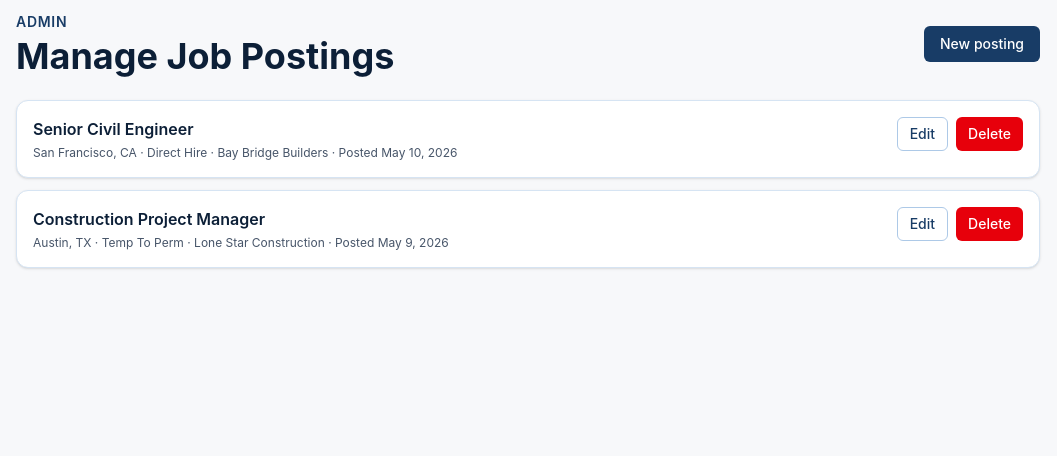
Scenario: <AdminJobsPage /> — delete › surfaces a DELETE error in the page banner
Check: the list named "job postings" is shown, box [16,100,1040,268]
Click the button "Delete" in the row of "May 10, 2026" at coordinates (990, 134), box [956,117,1023,151]
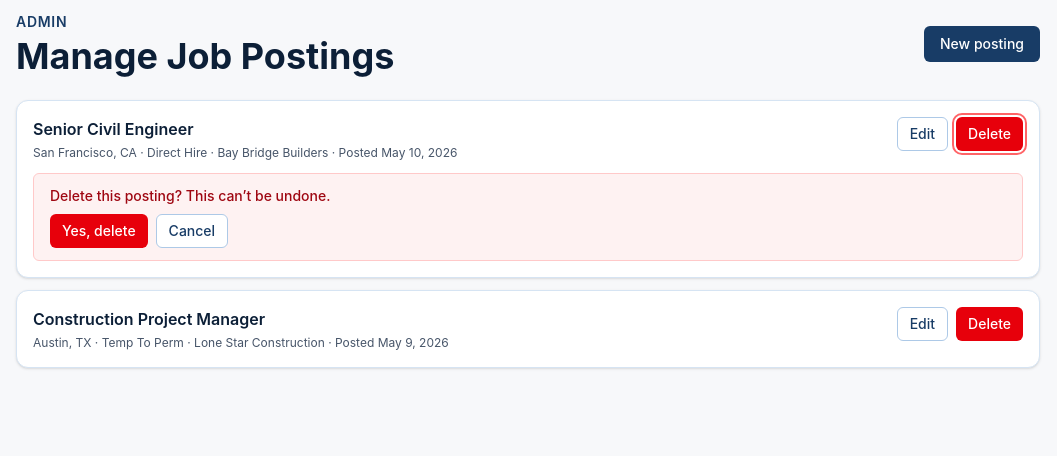
Click the button "Yes, delete" at coordinates (99, 231), box [50,214,148,248]
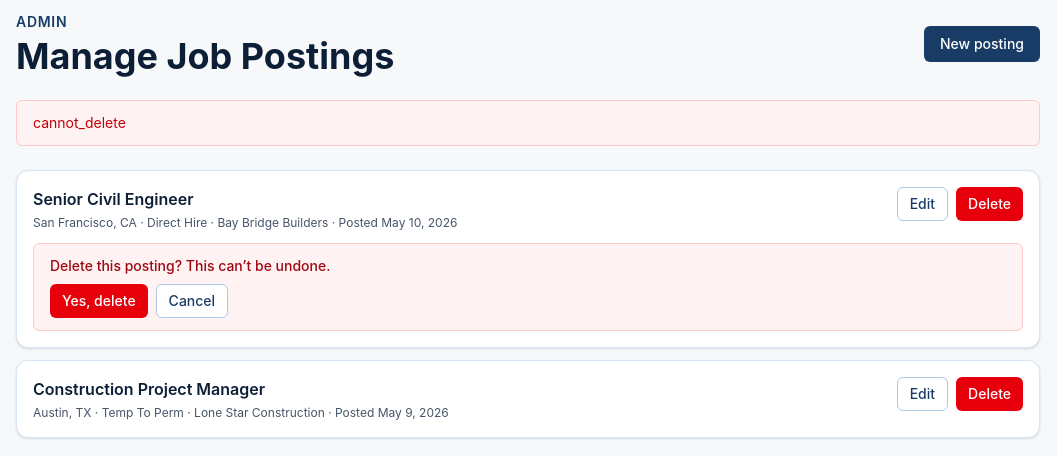
Check: the text "cannot_delete" is shown, box [16,100,1040,146]
